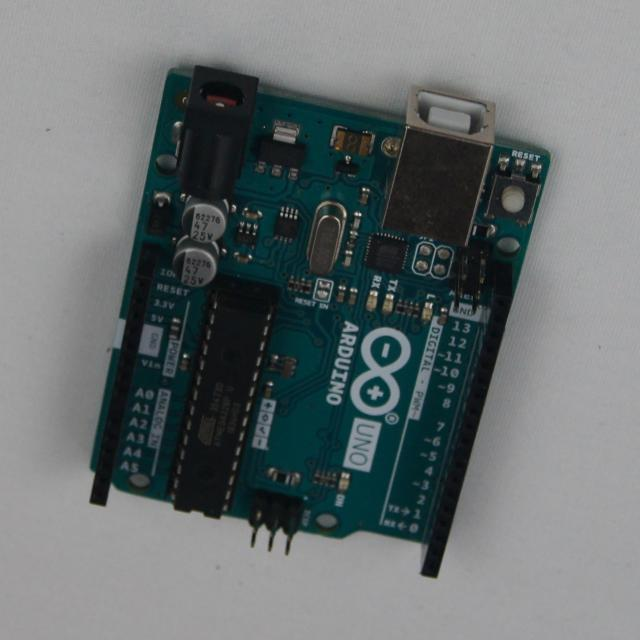Arduino Uno -Green-: (92, 67, 550, 578)
